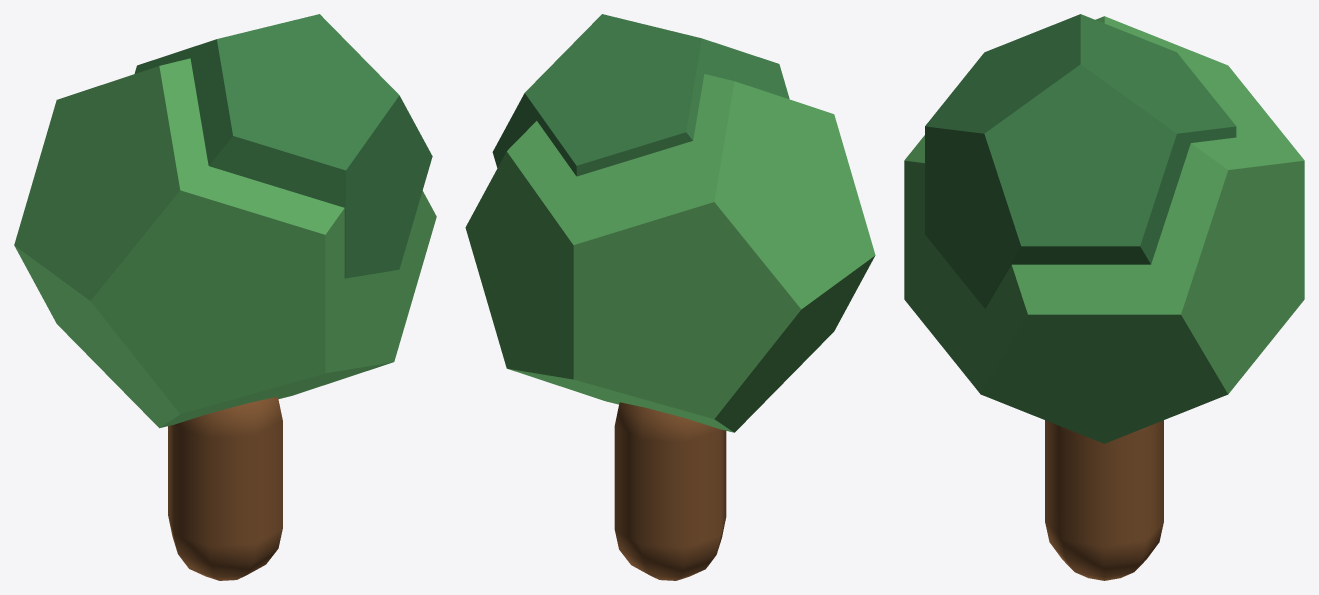
File: tree.glb
3 renders of one model, left to right at view 1: azimuth 30°, elevation 25°; view 2: azimuth 150°, elevation 25°; view 3: azimuth 270°, elevation 25°, orthographic. The views are drawn at different scales.
Visible parts, largest first — view 1: Foliage1, Foliage2, Trunk; view 2: Foliage1, Foliage2, Trunk; view 3: Foliage1, Foliage2, Trunk.
Boxes of the visible parts, x1=… form: Foliage1: x1=14, y1=58, x2=436, y2=428; Foliage2: x1=134, y1=14, x2=432, y2=278; Trunk: x1=168, y1=397, x2=282, y2=580; Foliage1: x1=465, y1=74, x2=875, y2=432; Foliage2: x1=492, y1=14, x2=789, y2=176; Trunk: x1=614, y1=402, x2=726, y2=580; Foliage1: x1=904, y1=16, x2=1304, y2=443; Foliage2: x1=925, y1=14, x2=1236, y2=308; Trunk: x1=1045, y1=420, x2=1163, y2=580.
Bounding box in the file's own units: 1.68 × 2.55 × 1.68.
